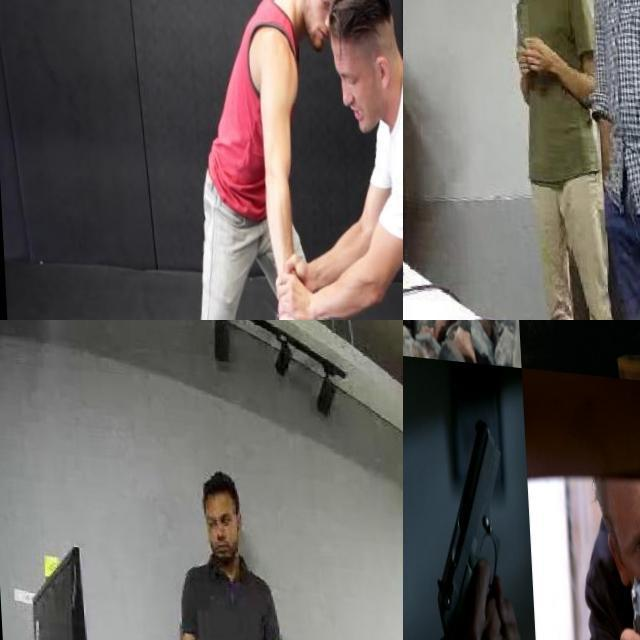-: (509, 0, 526, 45)
gun-knife-thesis - v11 Yolov5 augmented: (421, 403, 523, 640), (403, 320, 456, 392), (617, 558, 640, 640)
